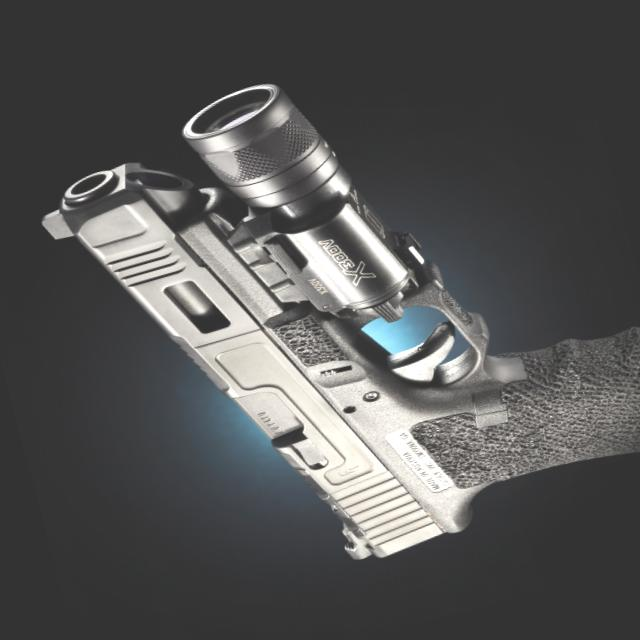handgun: (19, 3, 639, 629)
